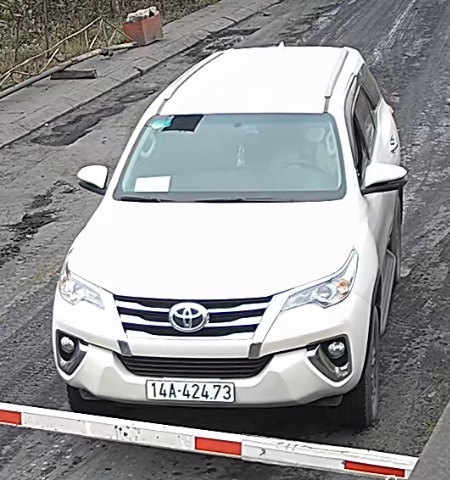vehicle plate: (144, 376, 242, 404)
